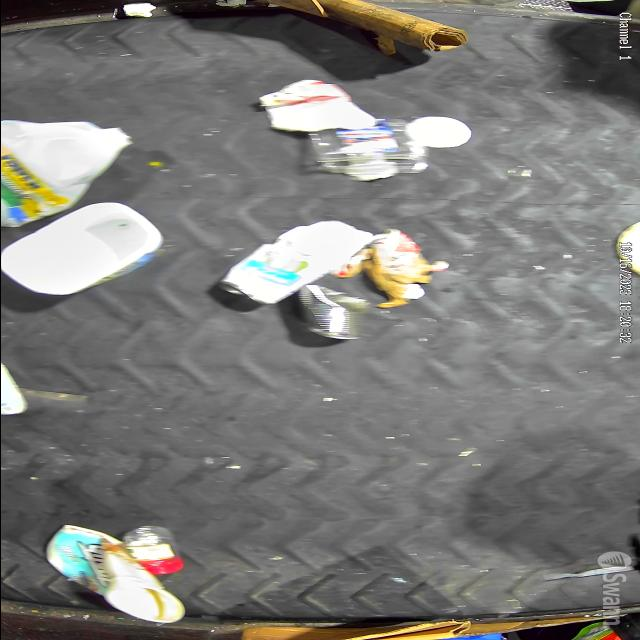can: (294, 284, 370, 342)
milk_jug: (0, 202, 160, 296), (0, 118, 134, 228), (215, 221, 374, 307)
